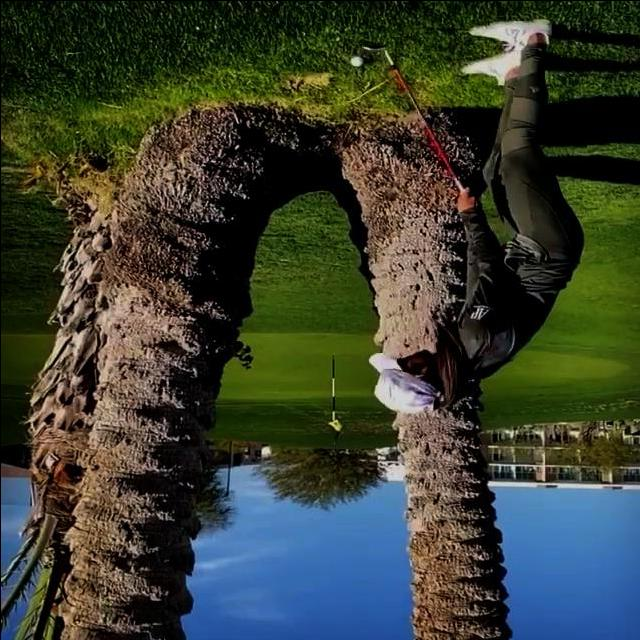golf club-handle: (362, 44, 466, 190)
golf club-head: (361, 43, 384, 49), (349, 55, 362, 64)
